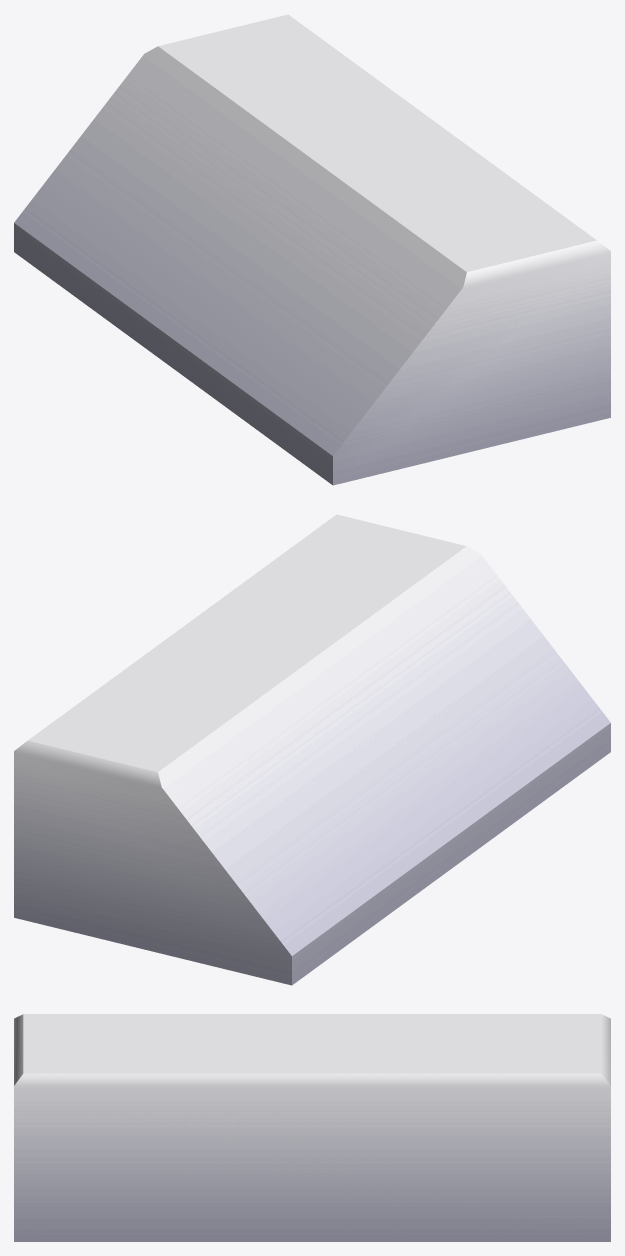
File: none_hq_brick_slope_2x4.glb
The picture shows the model from 3 angles, top to bottom: view 1: azimuth 30°, elevation 25°; view 2: azimuth 150°, elevation 25°; view 3: azimuth 270°, elevation 25°; orthographic projection. The views are drawn at different scales.
Parts seen in each view (by area): view 1: none-hq-brick-slope-2x4; view 2: none-hq-brick-slope-2x4; view 3: none-hq-brick-slope-2x4.
Part boxes in pixels (box(x1,y1,x2,y2)): none-hq-brick-slope-2x4: box(14, 14, 610, 485); none-hq-brick-slope-2x4: box(14, 514, 610, 985); none-hq-brick-slope-2x4: box(14, 1014, 610, 1241).
Size of the model in its own units: 0.159 by 0.096 by 0.316.
Materials: 1 (1 with a texture image).
